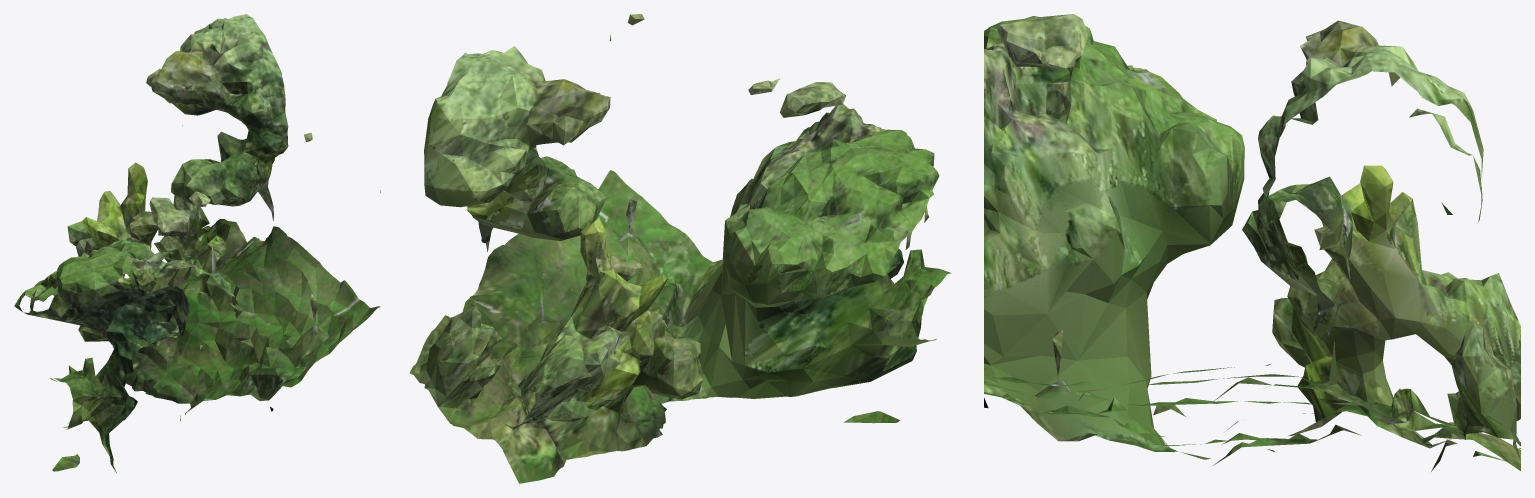
3 renders of one model, left to right at view 1: azimuth 30°, elevation 25°; view 2: azimuth 150°, elevation 25°; view 3: azimuth 270°, elevation 25°, orthographic. The views are drawn at different scales.
Size of the model in its own units: 26.11 by 26.05 by 26.11.
Materials: 6 (6 with a texture image).
